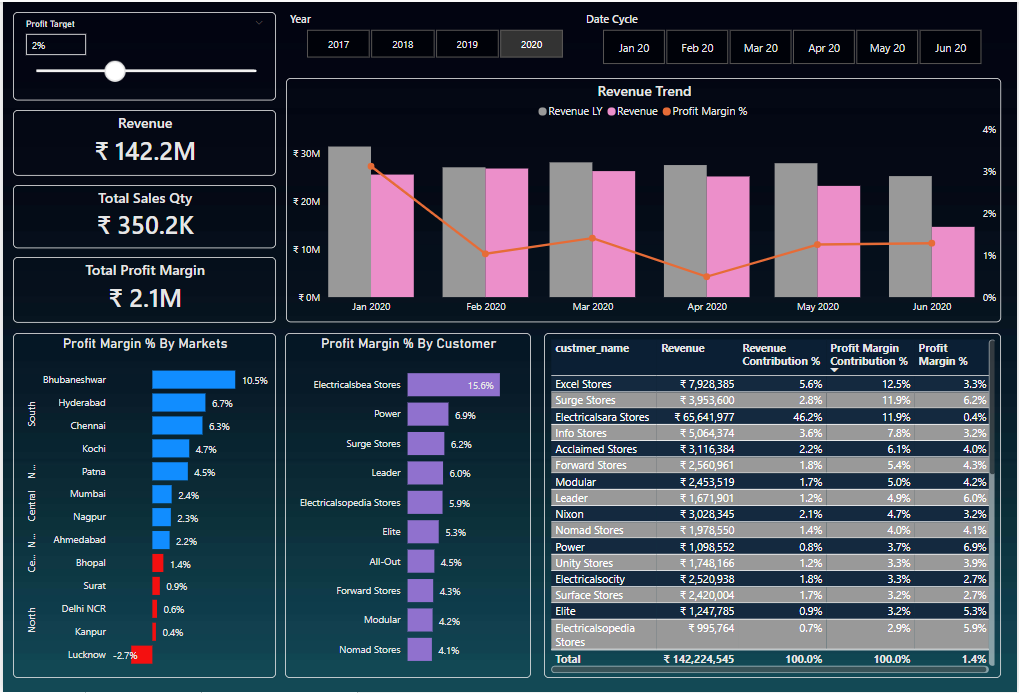

This screenshot's page, from the dashboard's own definition file:
{"tool":"powerbi","page":{"name":"Performance Insights","canvas":[1250,850],"ordinal":2},"visuals":[{"type":"card","title":"Revenue","fields":{"Values":["Key Matrix.Revenue"]},"box":[12.5,132.5,323.8,81.2],"z":0},{"type":"card","title":"Total Sales Qty","fields":{"Values":["Key Matrix.Total Sales Qty"]},"box":[12.5,225,323.8,77.5],"z":1000},{"type":"barChart","title":"Profit Margin % By Markets","fields":{"Category":["sales markets.zone","sales markets.markets_name","sales customers.custmer_name","sales products.product_code"],"Y":["Key Matrix.Profit Margin %"]},"box":[12.5,407.5,323.8,425],"z":2000},{"type":"tableEx","fields":{"Values":["sales customers.custmer_name","Key Matrix.Revenue","Key Matrix.Revenue Contribution %","Key Matrix.Profit Margin Contribution %","Key Matrix.Profit Margin %"]},"box":[666.2,407.5,562.5,425],"z":3000},{"type":"slicer","title":"Year","fields":{"Values":["sales date.year"]},"box":[348.8,12.5,365,62.5],"z":4000},{"type":"slicer","title":"Date Cycle","fields":{"Values":["sales date.cy_date"]},"box":[713.8,12.5,516.2,71.2],"z":5000},{"type":"card","title":"Total Profit Margin","fields":{"Values":["Key Matrix.Total Profit Margin"]},"box":[12.5,313.8,323.8,81.2],"z":6000},{"type":"slicer","fields":{"Values":["Profit Target.Profit Target"]},"box":[12.5,12.5,323.8,108.8],"z":7000},{"type":"lineClusteredColumnComboChart","title":"Revenue Trend","fields":{"Y":["Key Matrix.Revenue LY","Key Matrix.Revenue"],"Category":["sales date.cy_date"],"Y2":["Key Matrix.Profit Margin %"]},"box":[348.8,93.8,881.2,301.2],"z":8000},{"type":"barChart","title":"Profit Margin % By Customer","fields":{"Category":["sales customers.custmer_name"],"Y":["Key Matrix.Profit Margin %"]},"box":[347.5,407.5,302.5,425],"z":9000}]}

Visuals, with their boxes in screenshot pixels (x1, y1, x2, y2), scaled from the page's 1250x850 canvas onto the 1019x693 screenshot:
"Revenue" card: {"x1": 10, "y1": 108, "x2": 274, "y2": 174}
"Total Sales Qty" card: {"x1": 10, "y1": 183, "x2": 274, "y2": 247}
"Profit Margin % By Markets" barChart: {"x1": 10, "y1": 332, "x2": 274, "y2": 679}
tableEx - sales customers.custmer_name x Key Matrix.Revenue: {"x1": 543, "y1": 332, "x2": 1002, "y2": 679}
"Year" slicer: {"x1": 284, "y1": 10, "x2": 582, "y2": 61}
"Date Cycle" slicer: {"x1": 582, "y1": 10, "x2": 1003, "y2": 68}
"Total Profit Margin" card: {"x1": 10, "y1": 256, "x2": 274, "y2": 322}
slicer - Profit Target.Profit Target: {"x1": 10, "y1": 10, "x2": 274, "y2": 99}
"Revenue Trend" lineClusteredColumnComboChart: {"x1": 284, "y1": 76, "x2": 1003, "y2": 322}
"Profit Margin % By Customer" barChart: {"x1": 283, "y1": 332, "x2": 530, "y2": 679}
